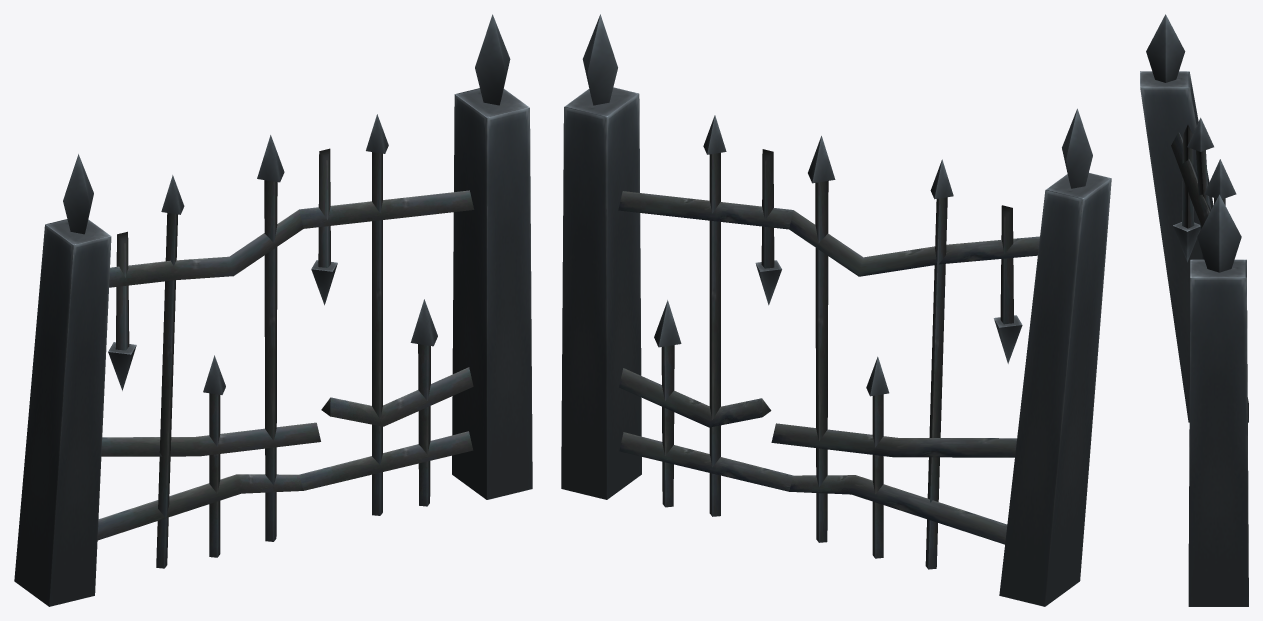
The model's file is haca_zhalan_04.FBX.
The picture shows the model from 3 angles, left to right: view 1: azimuth 30°, elevation 25°; view 2: azimuth 150°, elevation 25°; view 3: azimuth 270°, elevation 25°; orthographic projection. The views are drawn at different scales.
Parts seen in each view (by area): view 1: hacz_zhalan_04; view 2: hacz_zhalan_04; view 3: hacz_zhalan_04.
Boxes of the visible parts, left/top/right/bottom form: hacz_zhalan_04: left=14, top=14, right=532, bottom=606; hacz_zhalan_04: left=561, top=14, right=1111, bottom=606; hacz_zhalan_04: left=1140, top=14, right=1248, bottom=606.
Bounding box in the file's own units: 314 × 292 × 70.35.
